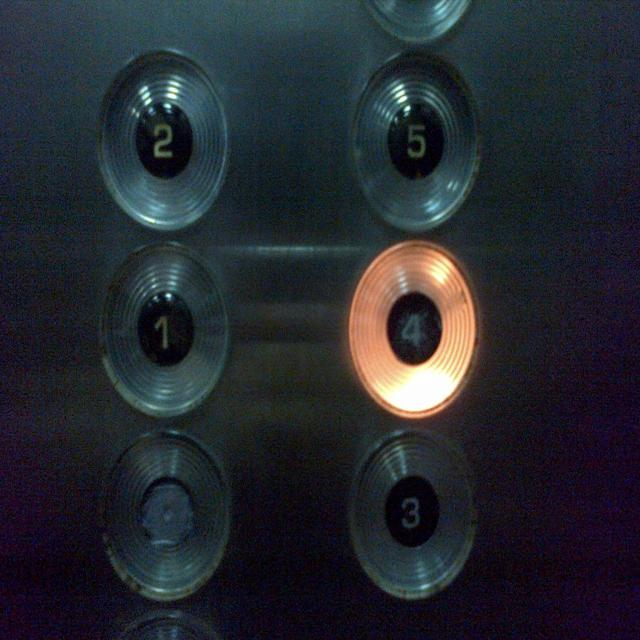1: (94, 237, 234, 426)
2: (93, 42, 232, 235)
3: (340, 419, 482, 609)
4: (344, 233, 482, 422)
5: (347, 45, 486, 237)
empty: (95, 423, 238, 610)
